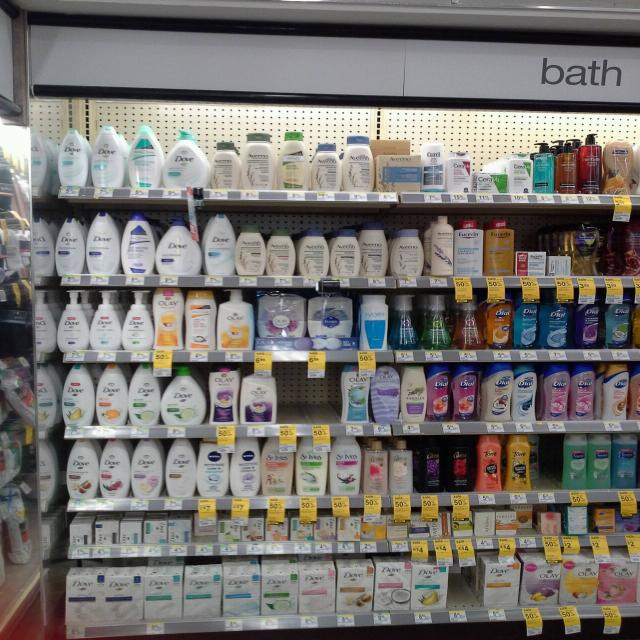empty: (277, 364, 335, 428), (449, 545, 477, 614)
